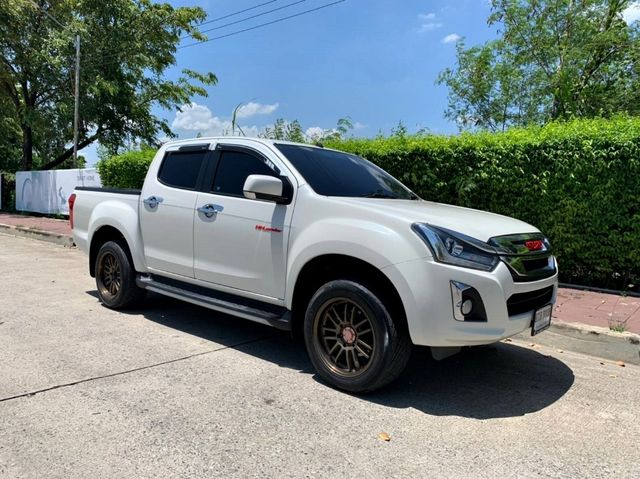pickup: (67, 135, 561, 393)
